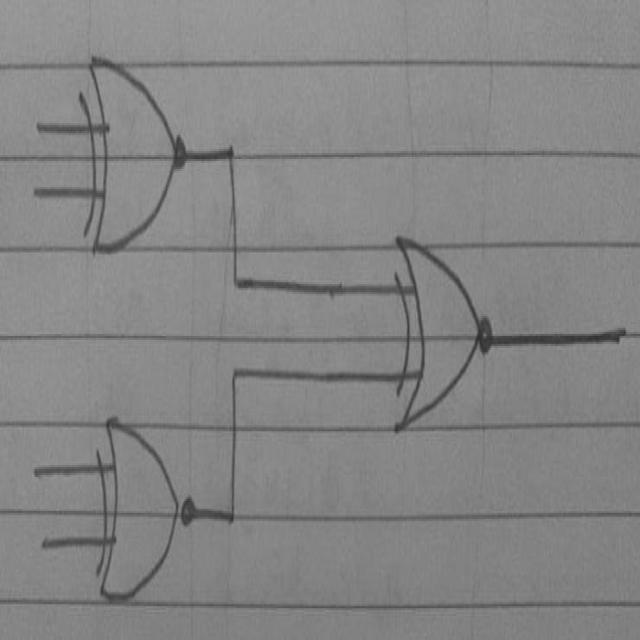XNOR: (66, 46, 198, 286), (86, 365, 204, 612), (384, 205, 499, 448)
